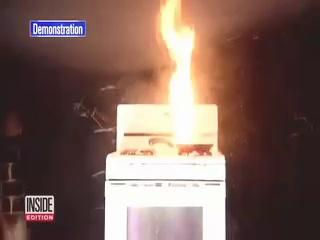Fire: (150, 1, 207, 149)
